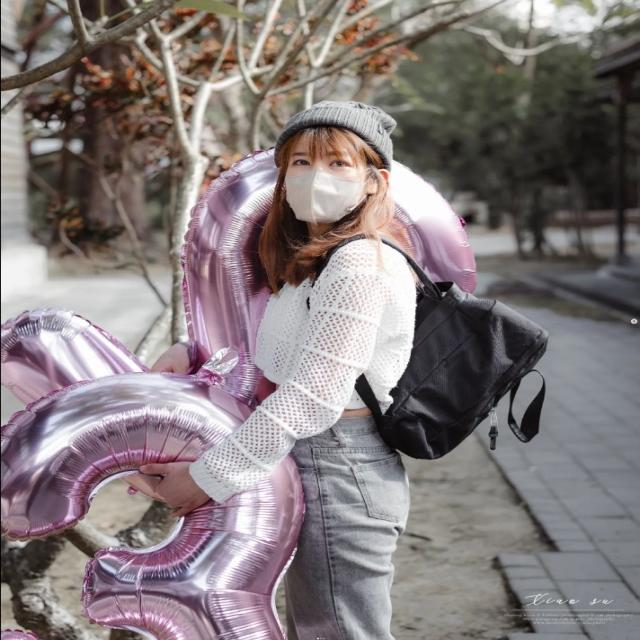illegal_helmet: (268, 96, 404, 227)
